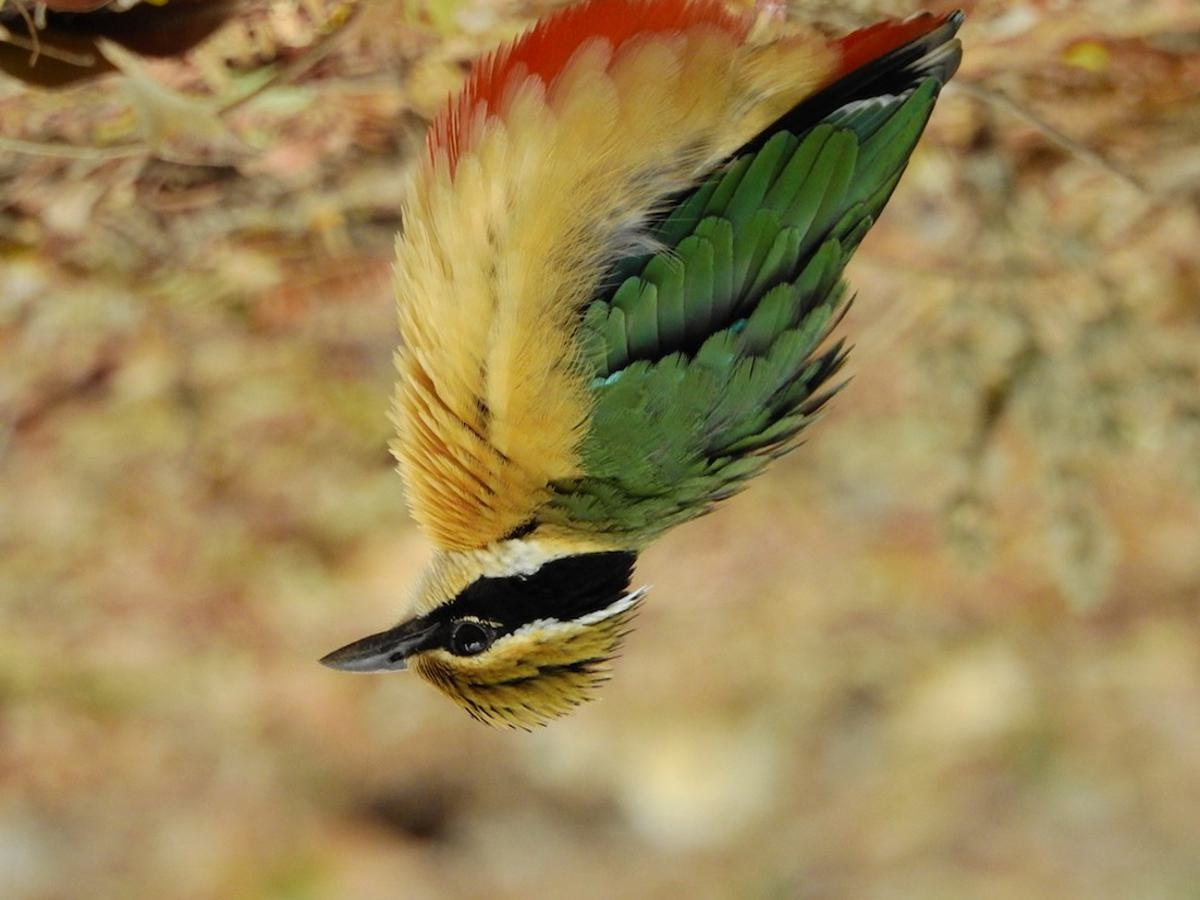pitta: (263, 12, 987, 782)
